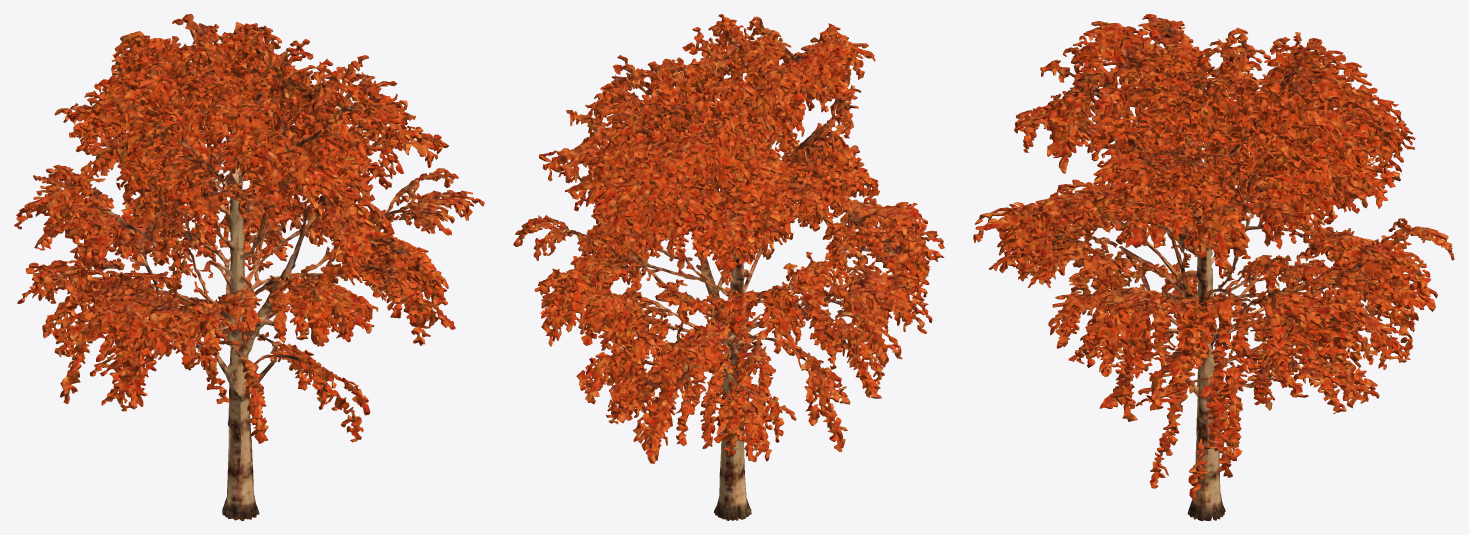
File: r6-birch-autumn-r6.glb
The picture shows the model from 3 angles, left to right: view 1: azimuth 30°, elevation 25°; view 2: azimuth 150°, elevation 25°; view 3: azimuth 270°, elevation 25°; orthographic projection.
Visible parts, largest first — view 1: geometry_0; view 2: geometry_0; view 3: geometry_0.
Part boxes in pixels (x1,y1,x2,y2): geometry_0: [14, 14, 484, 520]; geometry_0: [513, 14, 944, 520]; geometry_0: [973, 14, 1454, 520].
Size of the model in its own units: 10.42 by 12 by 11.16.
Materials: 1 (1 with a texture image).
